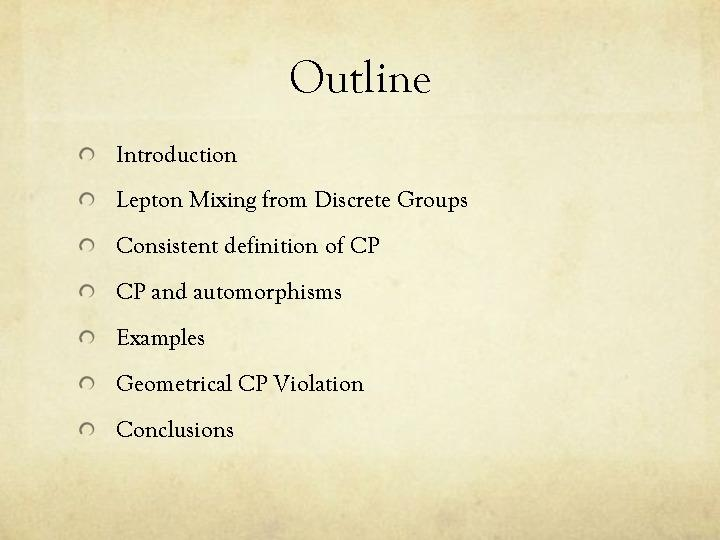paragraph: (78, 129, 550, 481)
title: (279, 48, 475, 115)
